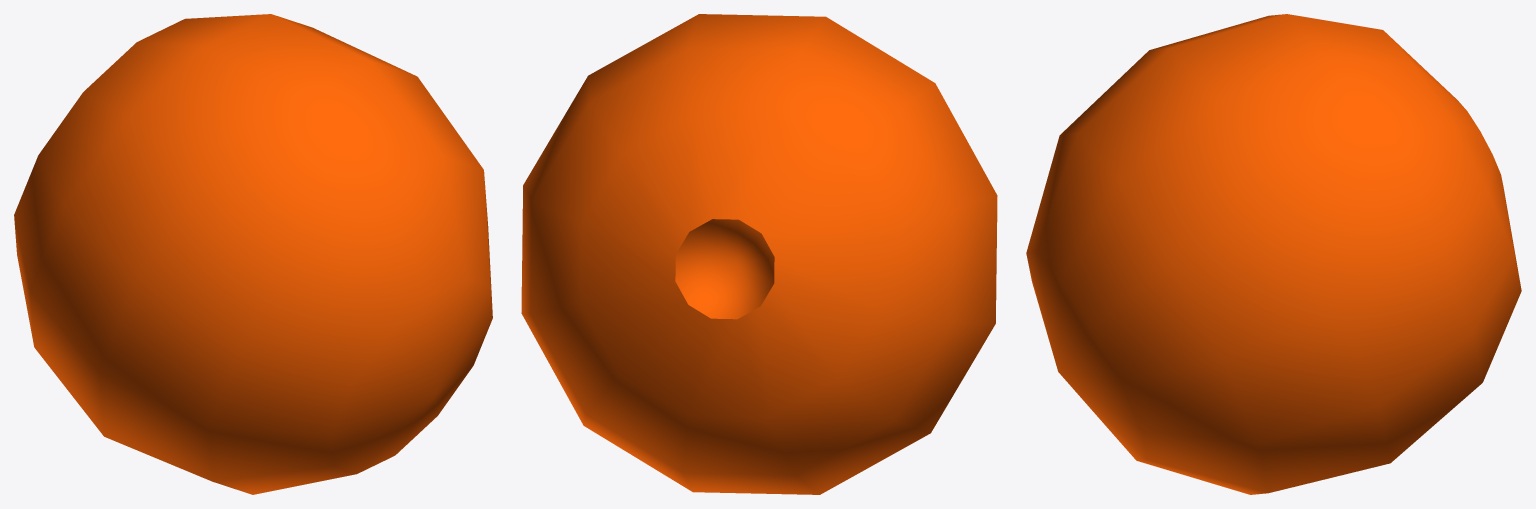
File: ChineseShop_Dif1_Sc2.fbx
The picture shows the model from 3 angles, left to right: view 1: azimuth 30°, elevation 25°; view 2: azimuth 150°, elevation 25°; view 3: azimuth 270°, elevation 25°; orthographic projection. The views are drawn at different scales.
Visible parts, largest first — view 1: ChineseShop_Dif1_Sc2; view 2: ChineseShop_Dif1_Sc2; view 3: ChineseShop_Dif1_Sc2.
Boxes of the visible parts, box(x1,y1,x2,y2) form: ChineseShop_Dif1_Sc2: box(14, 14, 492, 494); ChineseShop_Dif1_Sc2: box(521, 14, 997, 494); ChineseShop_Dif1_Sc2: box(1026, 14, 1521, 494).
Bounding box in the file's own units: 0.527 × 0.5397 × 0.5202.
